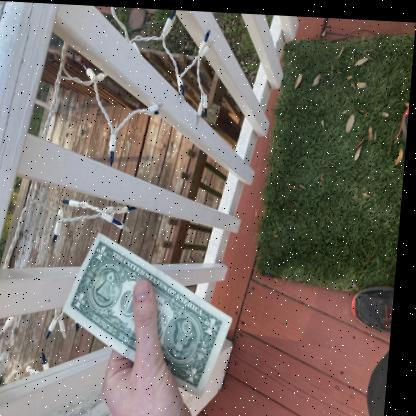one-back: (60, 229, 231, 396)
